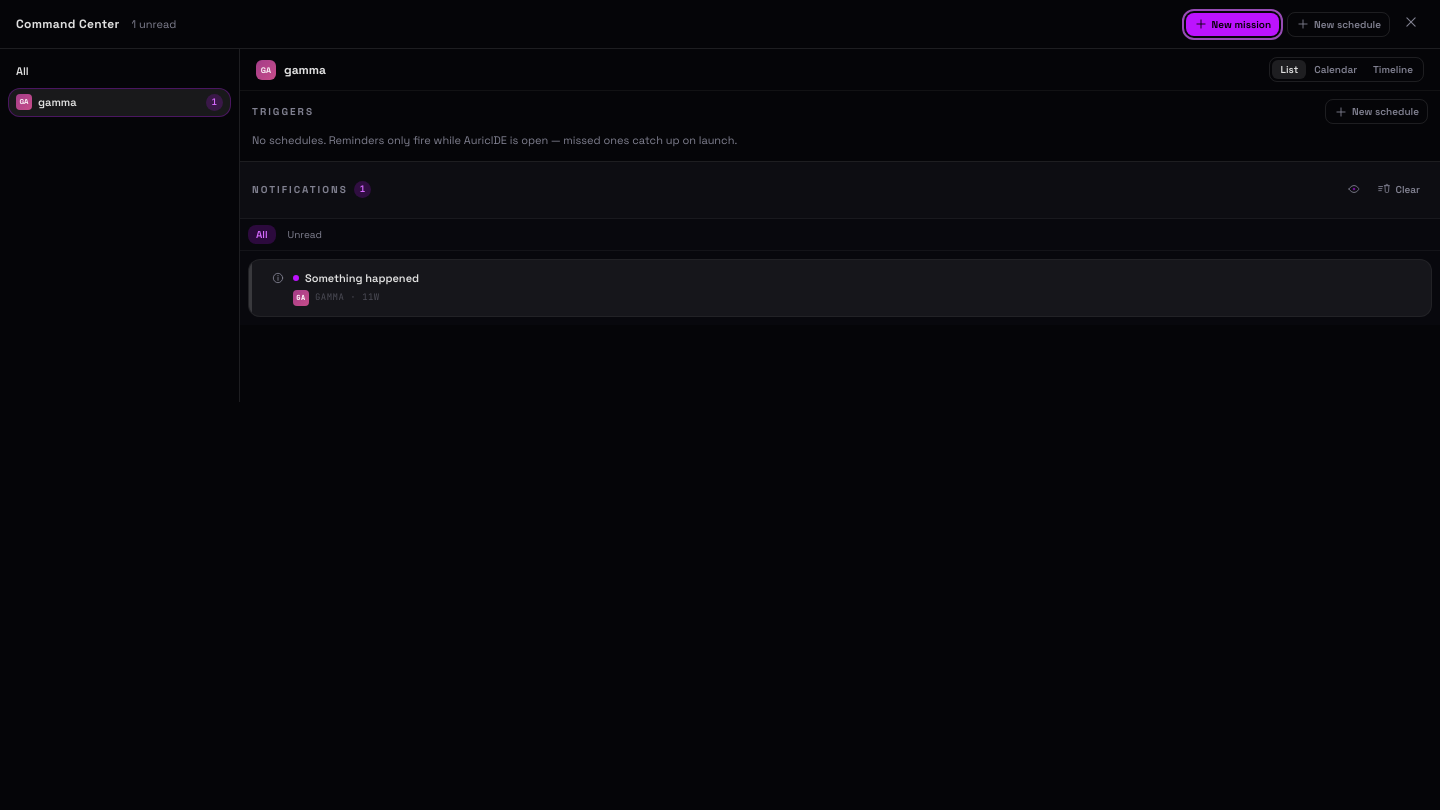
Test case: CommandCenter › the schedule editor › offers a project it only knows from the inbox
Click the button with test id "command-center-new-schedule-here" at [1376, 112], box [1325,99,1428,124]
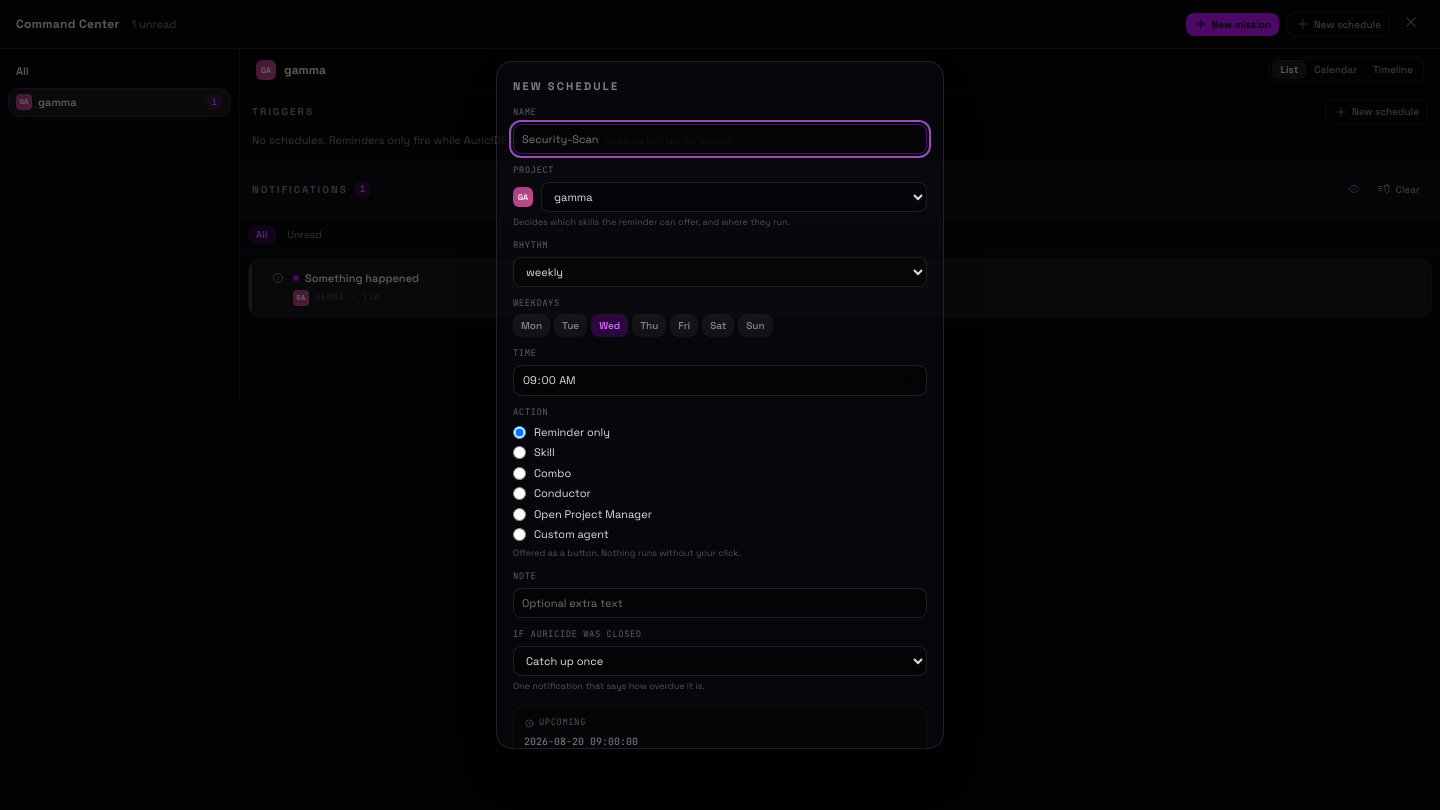
Expected: the dropdown with test id "schedule-project" shows "gamma", [541,182,927,212]
